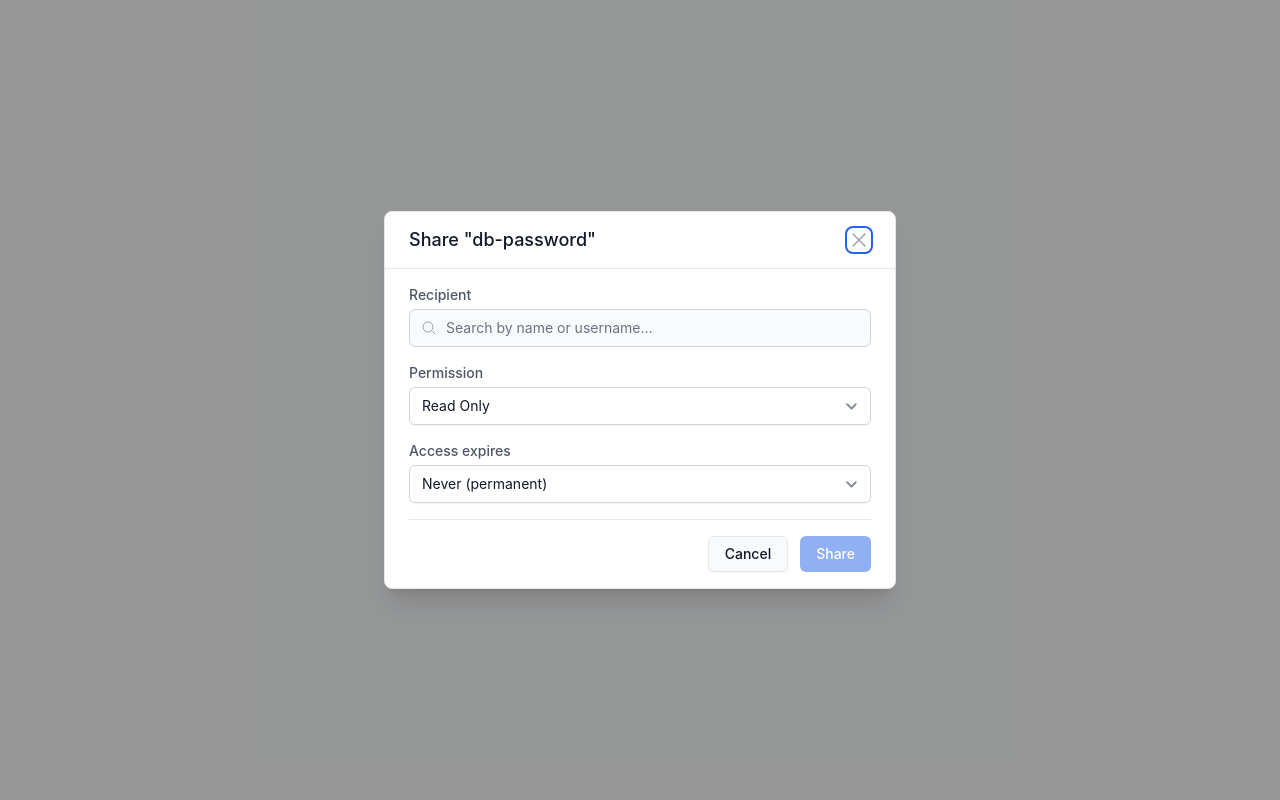
it: ShareSecretModal recipient search › reopens the dropdown on focus when a query is already present
Type "bob" into the field with placeholder "Search by name or username…" at (640,328), box top-left (409, 309), bottom-right (871, 347)
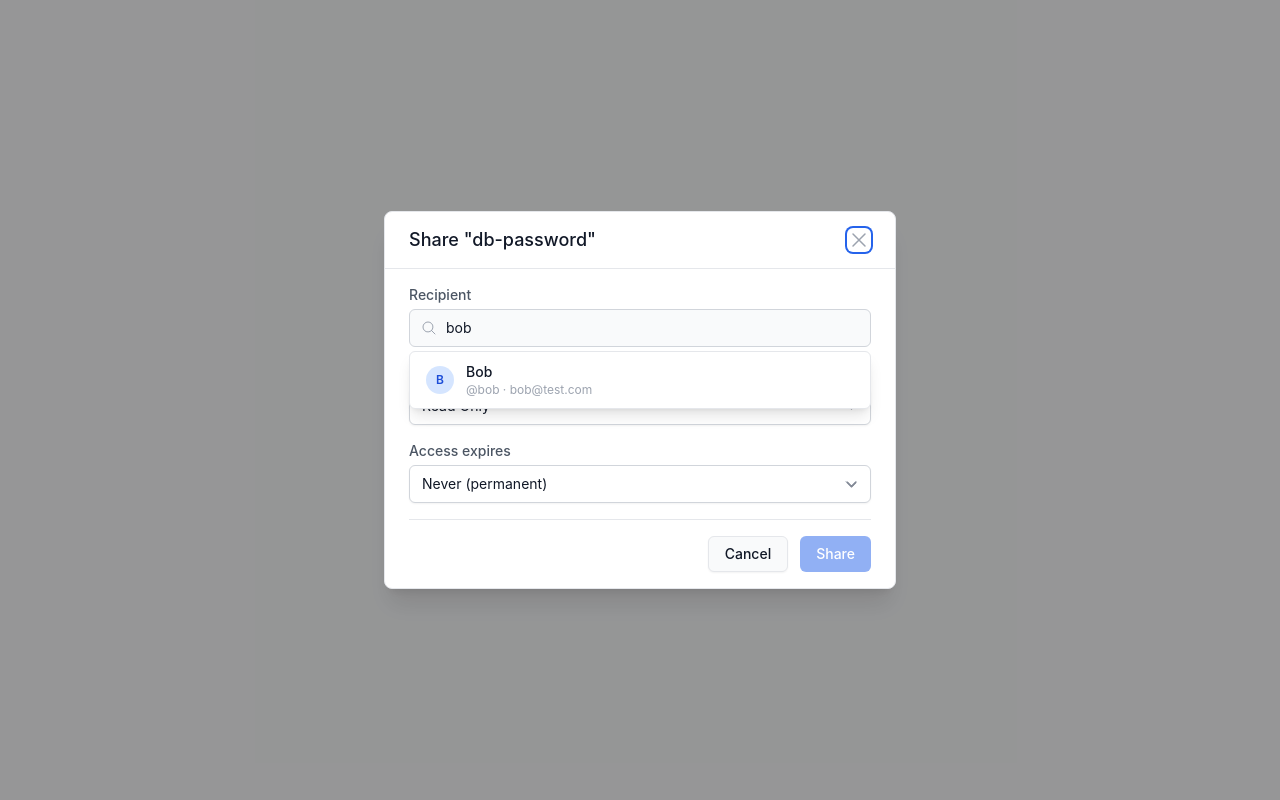
Click the text "Bob" at (479,372), box top-left (466, 363), bottom-right (492, 380)
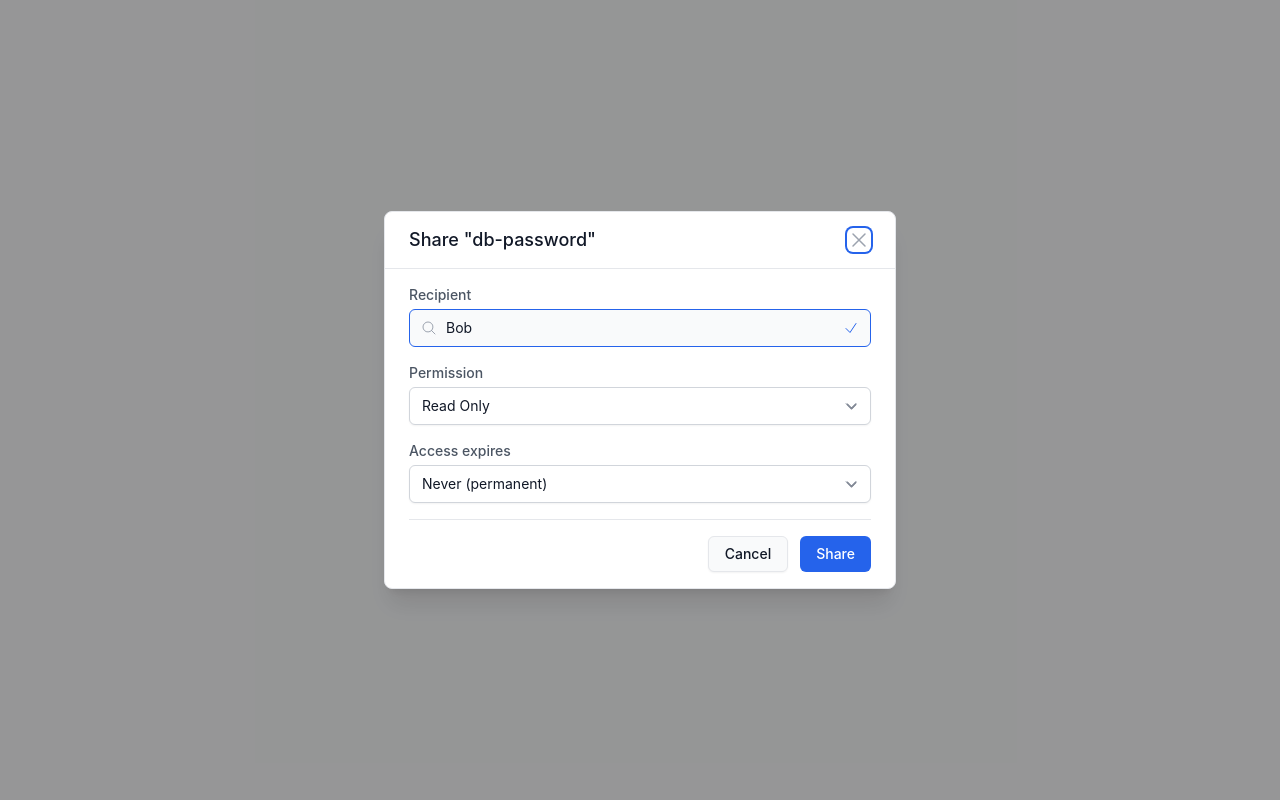
Focus the field with placeholder "Search by name or username…" at (640,328), box top-left (409, 309), bottom-right (871, 347)
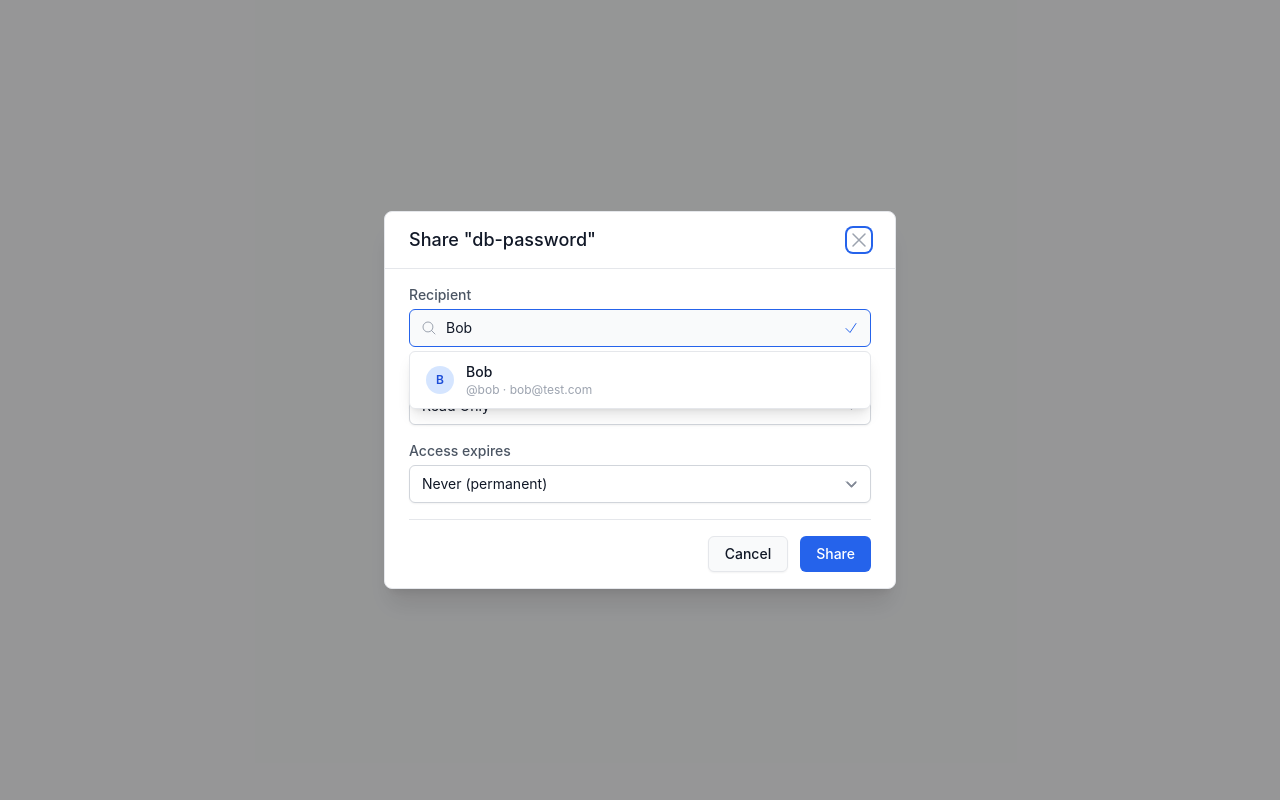
expect the text "Bob" is shown: met, box top-left (466, 363), bottom-right (492, 380)
